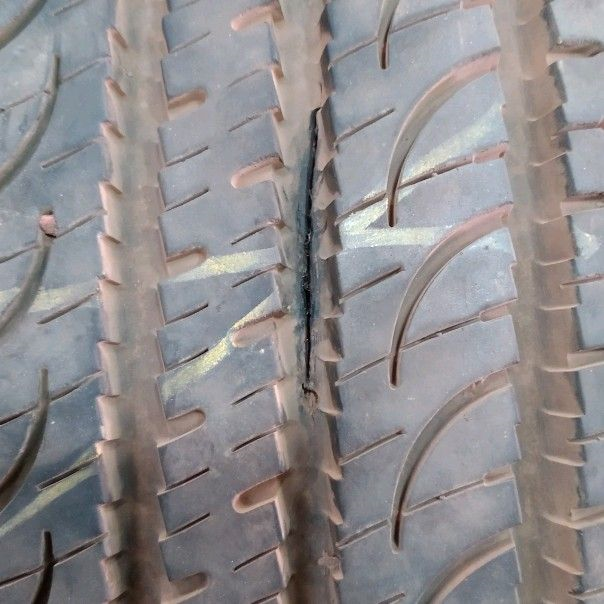tr: (298, 99, 328, 403)
